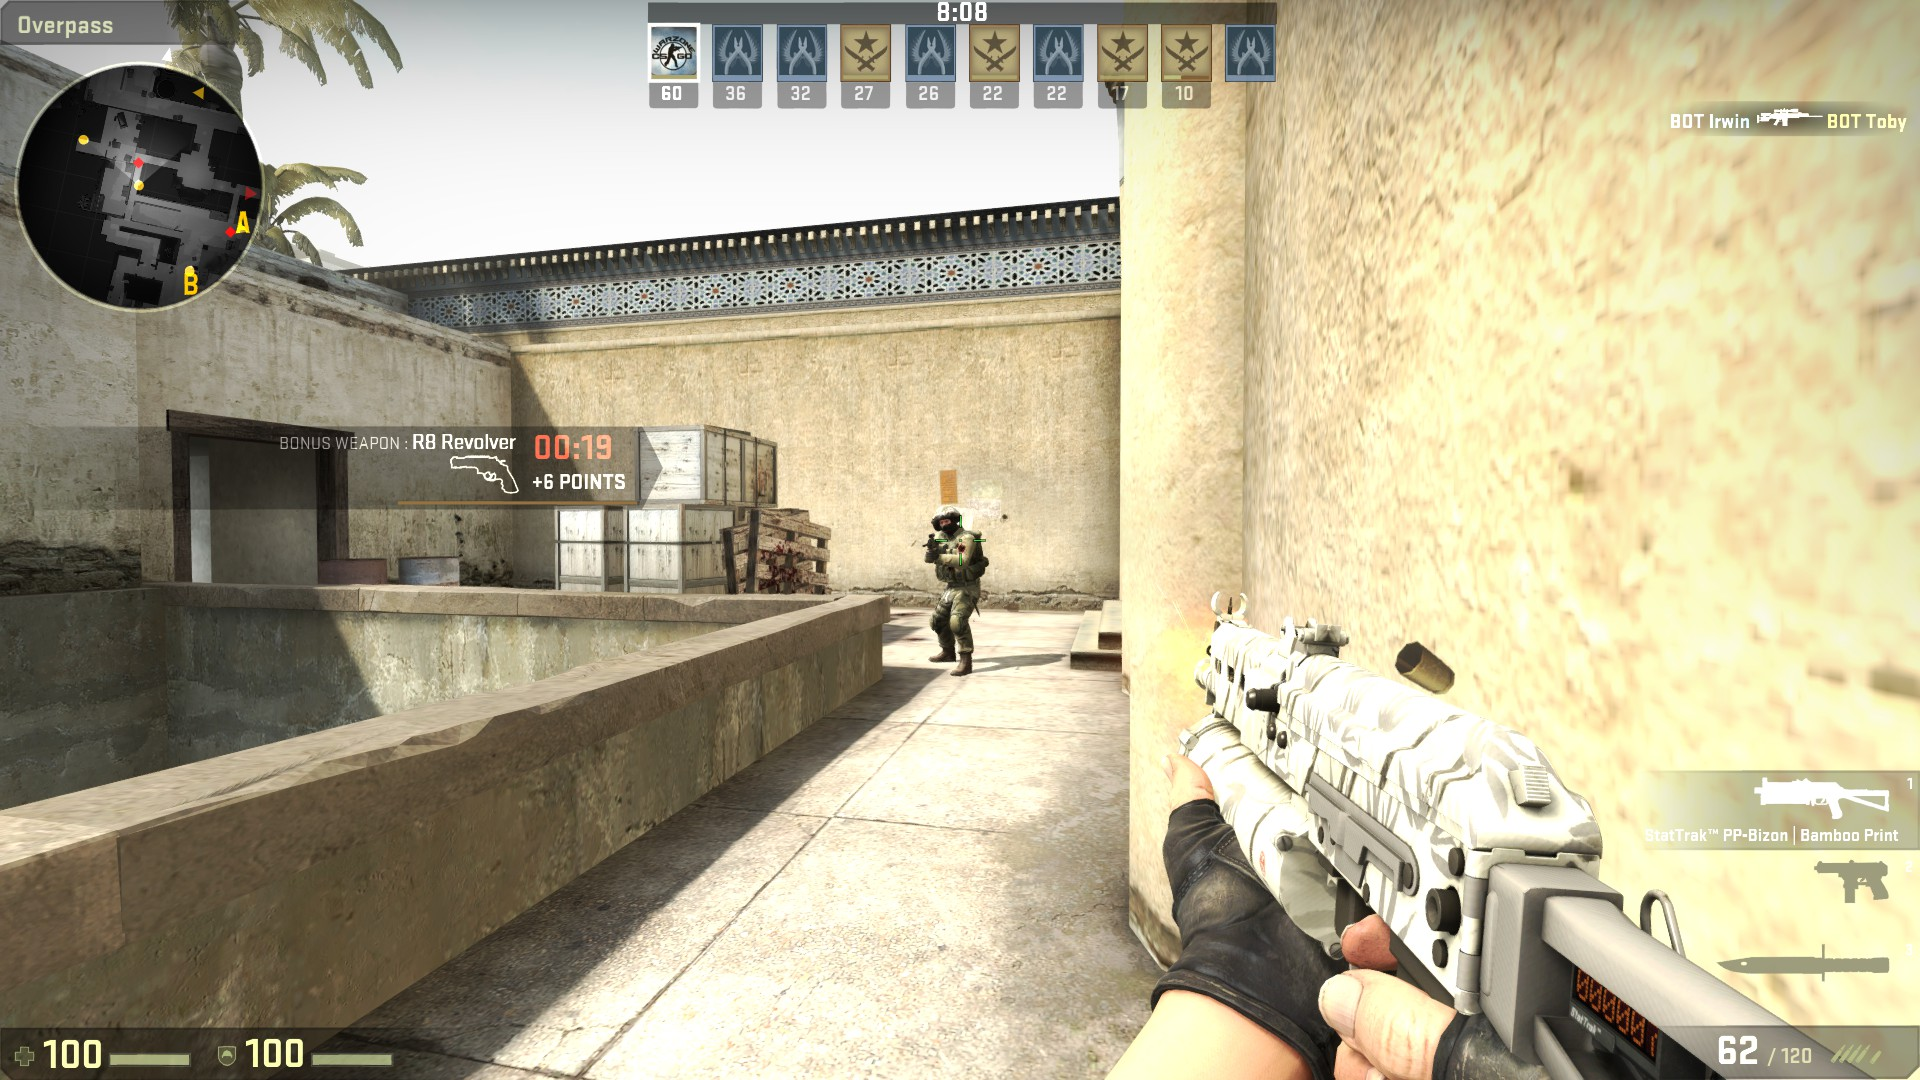c: (926, 504, 986, 678)
ch: (931, 502, 963, 538)
